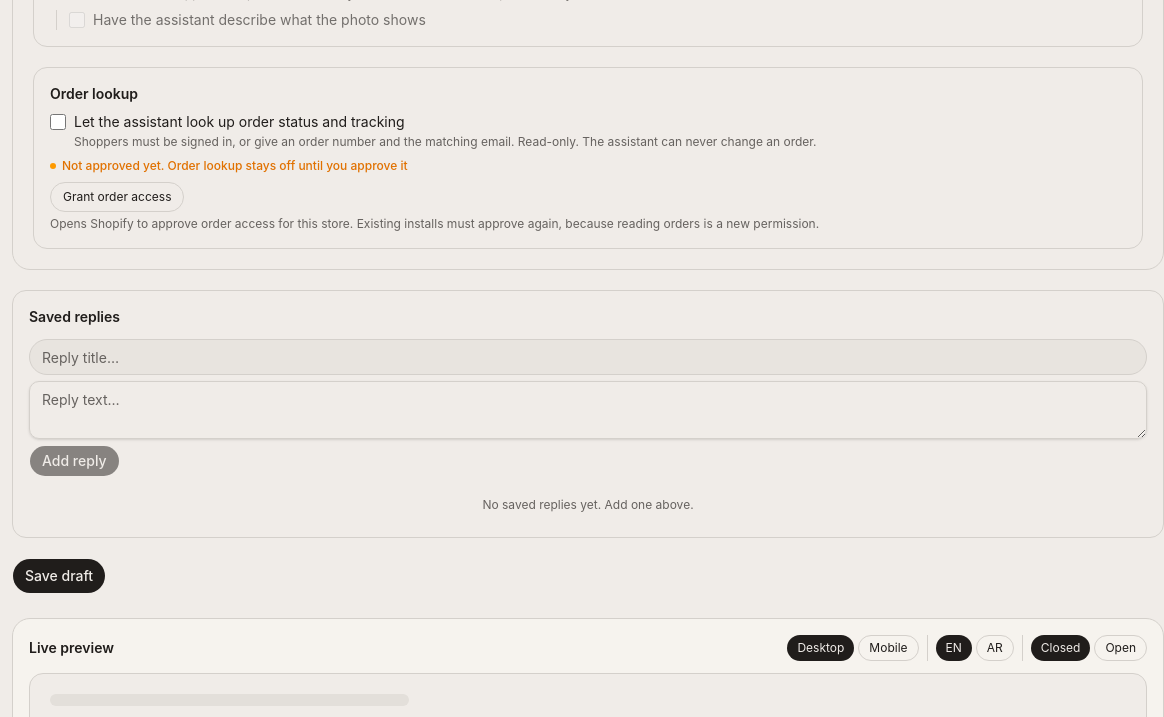
BehaviourEditor saved replies › keeps input and shows an add failure
(page scrolled)
Type "Shipping" into the field labelled "Reply title…" at (588, 357), box [29,339,1147,375]
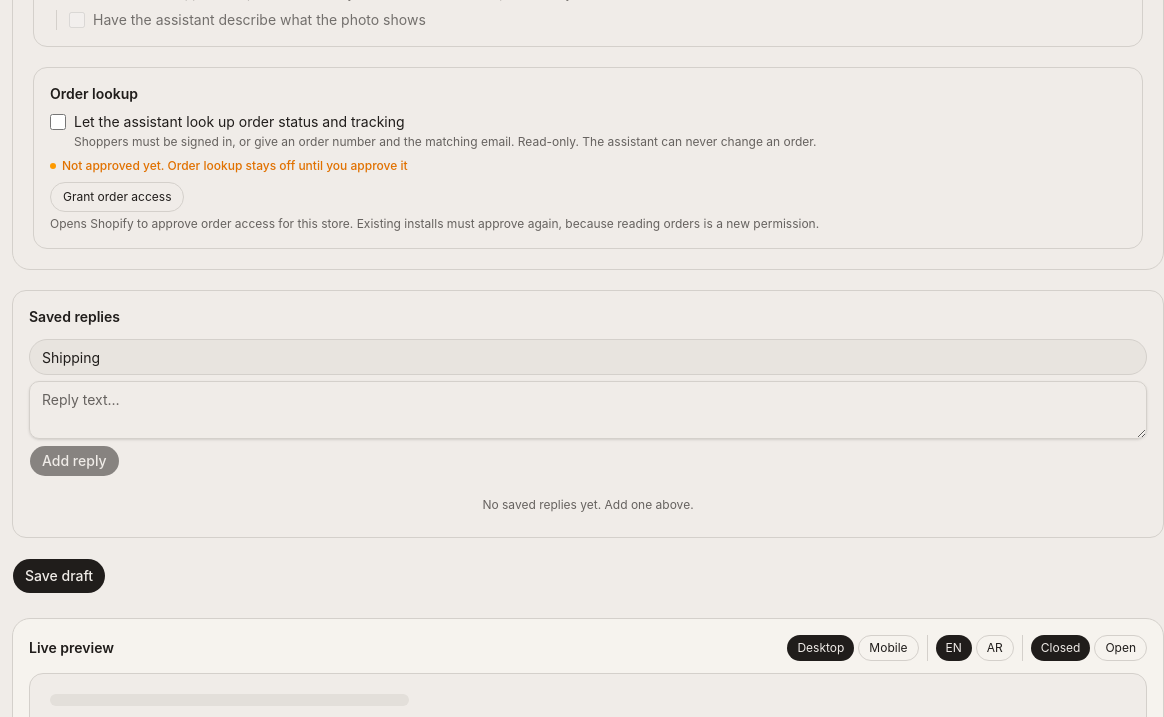
Type "Ships fast" into the text box labelled "Reply text…" at (588, 410), box [29,381,1147,439]
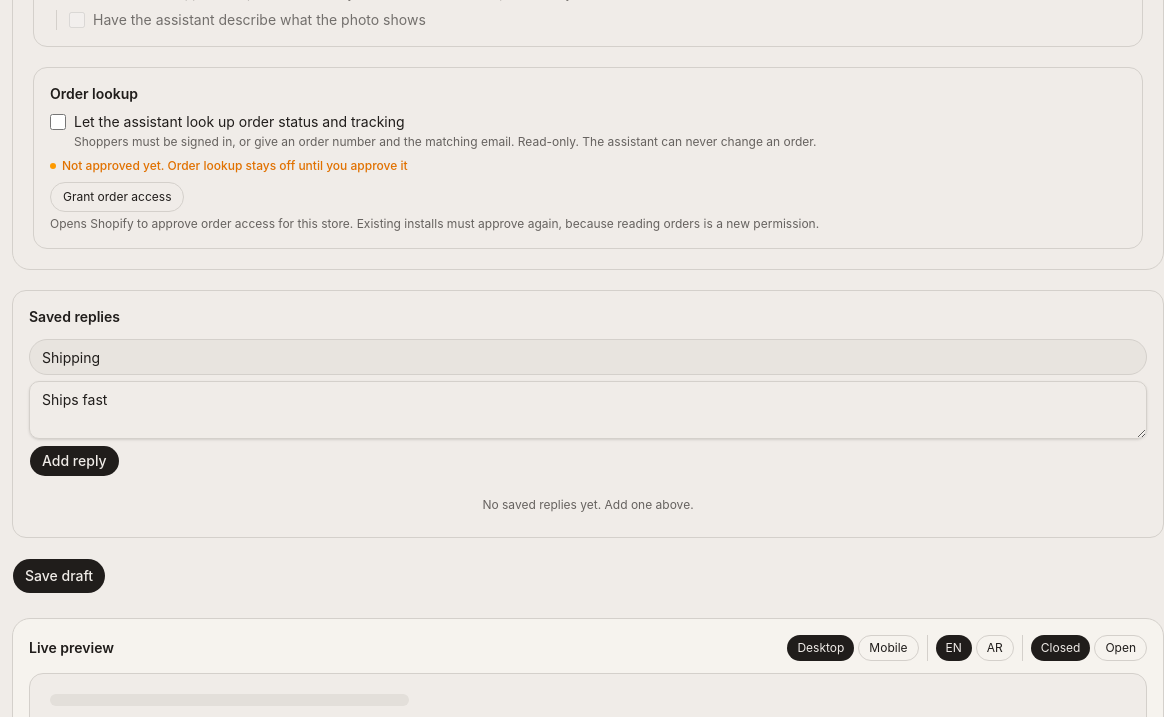
Click the button "Add reply" at (74, 461), box [29,445,120,477]
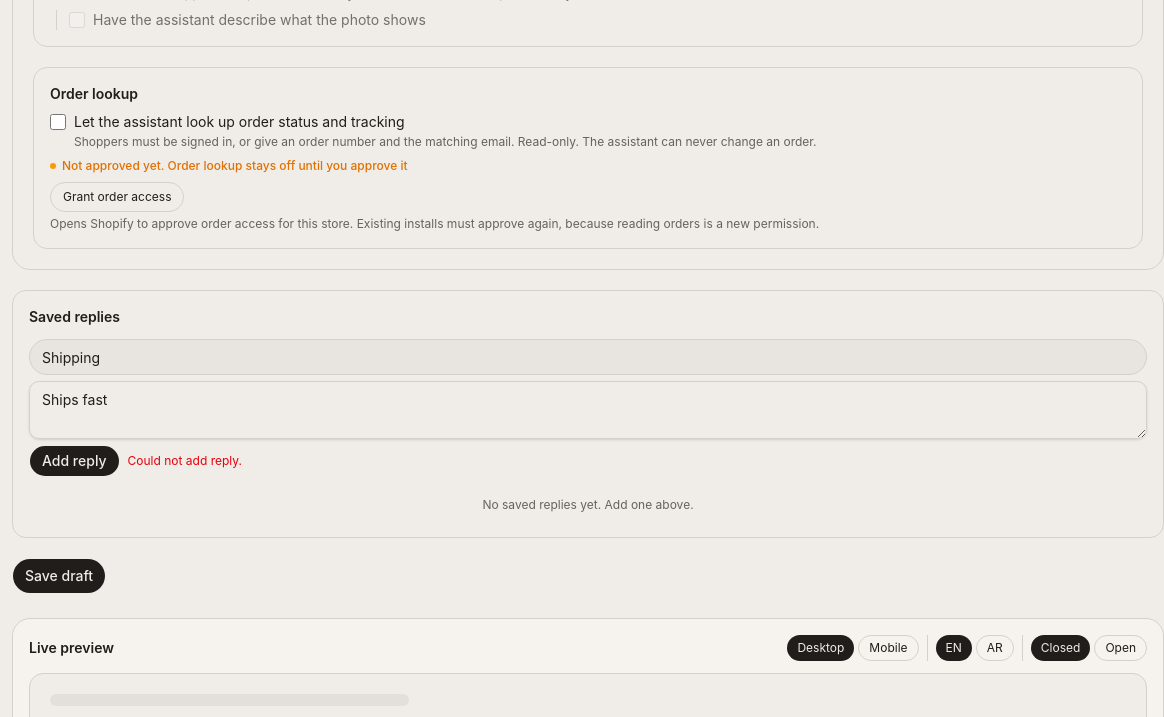
Expected: the message reads "Could not add reply.", [128,453,242,468]
